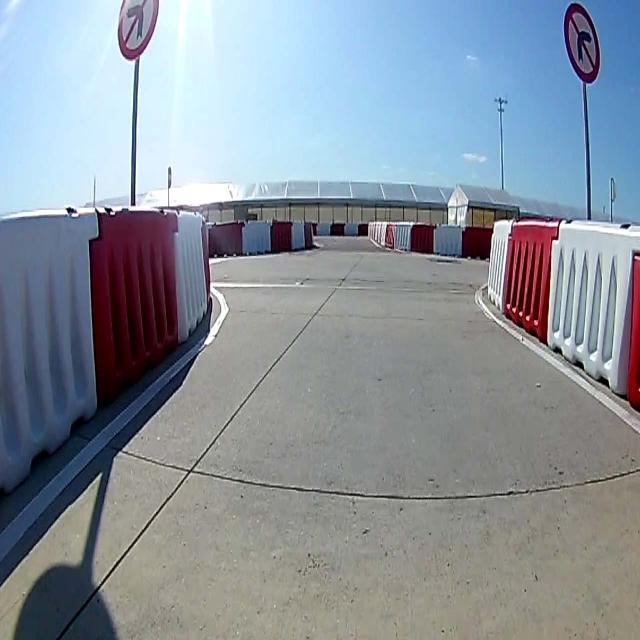sagadonulmez: (564, 5, 600, 83)
soladonulmez: (118, 1, 160, 64)
